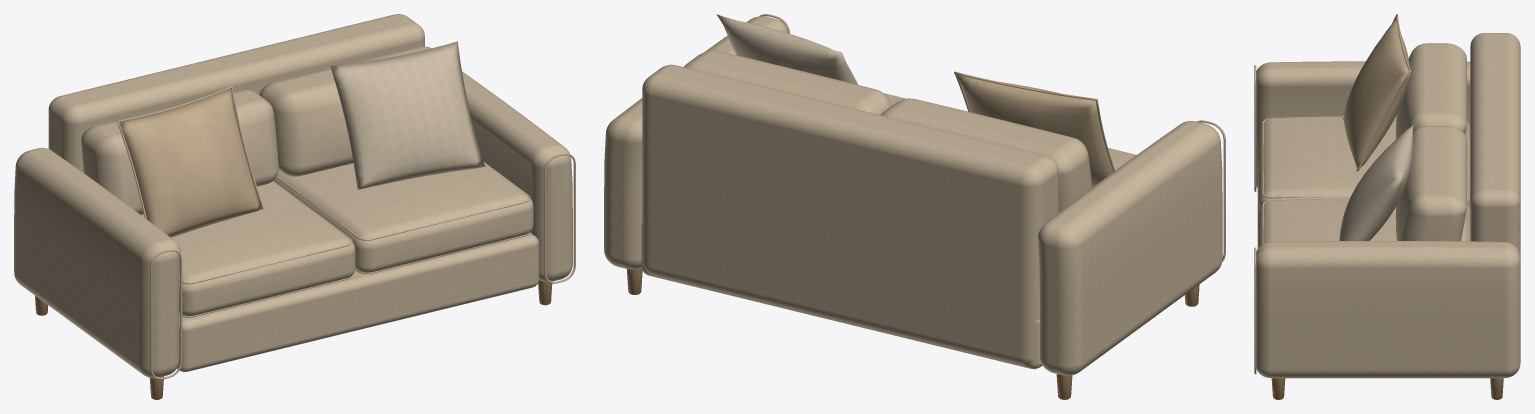
3 views of the same model, side by side, from view 1: azimuth 30°, elevation 25°; view 2: azimuth 150°, elevation 25°; view 3: azimuth 270°, elevation 25° (orthographic). The views are drawn at different scales.
Visible parts, largest first — view 1: arm_-1, plinth, seat_cushion_1, scatter_cushion_1, back_frame, seat_cushion_0, scatter_cushion_0, arm_1, back_cushion_1, back_cushion_0, arm_welt_1, arm_welt_-1 (+3 smaller); view 2: back_frame, arm_-1, arm_1, back_cushion_0, scatter_cushion_0, back_cushion_1, scatter_cushion_1, plinth, scatter_cushion_0_piping; view 3: arm_1, back_frame, seat_cushion_0, back_cushion_1, arm_-1, scatter_cushion_0, back_cushion_0, scatter_cushion_1, seat_cushion_1, scatter_cushion_0_piping, seat_cushion_0_welt_top, arm_welt_-1 (+3 smaller).
Part boxes in pixels (box(x1,y1,x2,y2)): arm_-1: box(14, 147, 180, 378); plinth: box(176, 233, 538, 372); seat_cushion_1: box(273, 162, 533, 272); scatter_cushion_1: box(330, 41, 485, 189); back_frame: box(48, 14, 424, 172); seat_cushion_0: box(141, 181, 355, 316); scatter_cushion_0: box(119, 88, 262, 237); arm_1: box(462, 71, 572, 282); back_cushion_1: box(259, 46, 431, 176); back_cushion_0: box(81, 89, 278, 214); arm_welt_1: box(544, 153, 575, 283); arm_welt_-1: box(150, 249, 182, 379); back_frame: box(642, 64, 1058, 365); arm_-1: box(1038, 121, 1222, 375); arm_1: box(604, 16, 788, 269); back_cushion_0: box(881, 98, 1092, 212); scatter_cushion_0: box(957, 74, 1112, 186); back_cushion_1: box(684, 50, 891, 114); scatter_cushion_1: box(716, 14, 858, 84); plinth: box(641, 223, 1042, 369); scatter_cushion_0_piping: box(954, 71, 1114, 171); arm_1: box(1256, 241, 1520, 378); back_frame: box(1470, 33, 1520, 256); seat_cushion_0: box(1258, 116, 1470, 212); back_cushion_1: box(1395, 126, 1466, 241); arm_-1: box(1256, 61, 1470, 188); scatter_cushion_0: box(1343, 18, 1410, 169); back_cushion_0: box(1395, 43, 1466, 138); scatter_cushion_1: box(1339, 122, 1413, 240); seat_cushion_1: box(1258, 198, 1470, 248); scatter_cushion_0_piping: box(1342, 14, 1411, 171); seat_cushion_0_welt_top: box(1262, 117, 1467, 198); arm_welt_-1: box(1254, 65, 1256, 191).
Bounding box in the file's own units: 1.6 × 0.8 × 0.9.
Materials: 4 (4 with a texture image).
